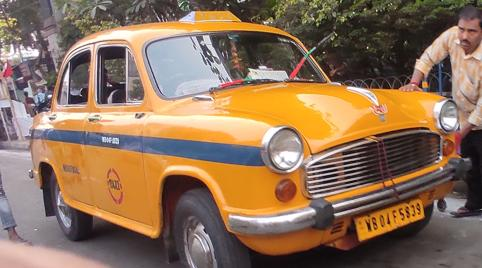Car: (26, 8, 469, 268)
